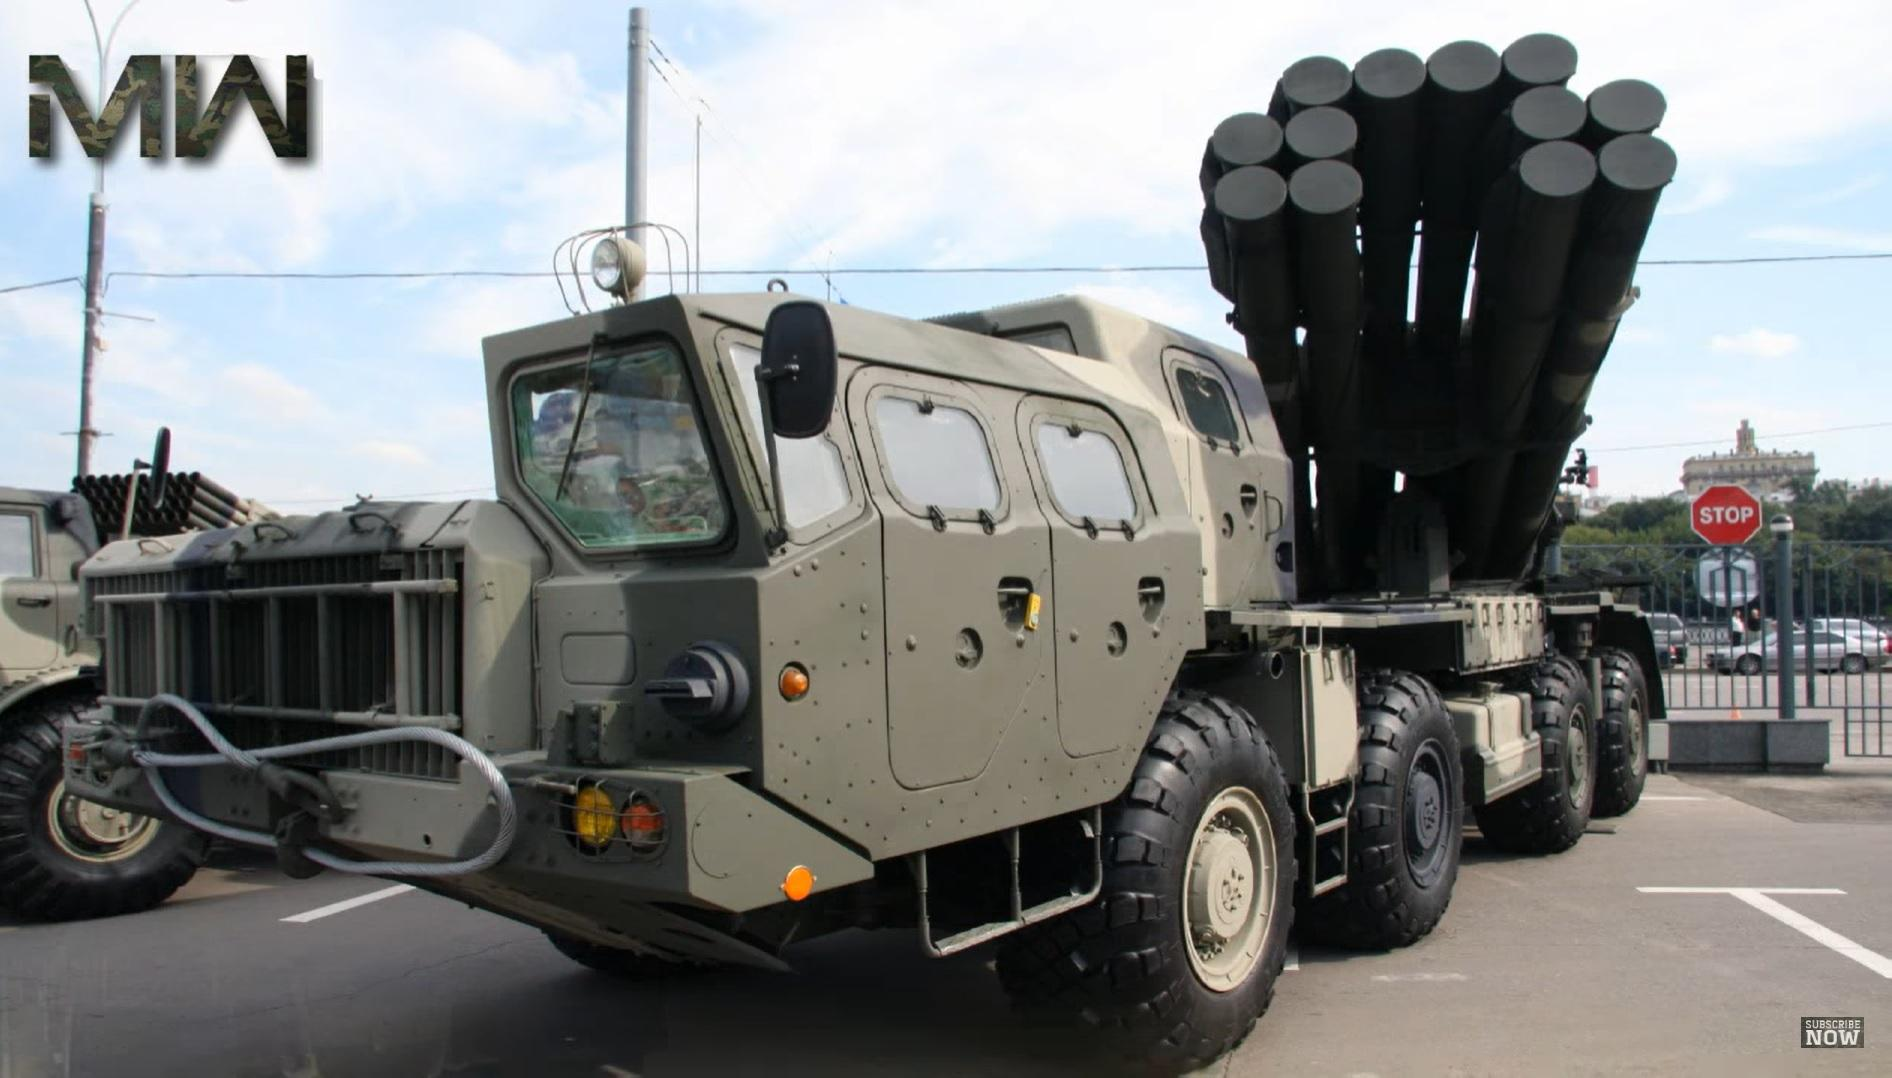MIL_SAM_TEL: (87, 8, 1681, 1066)
